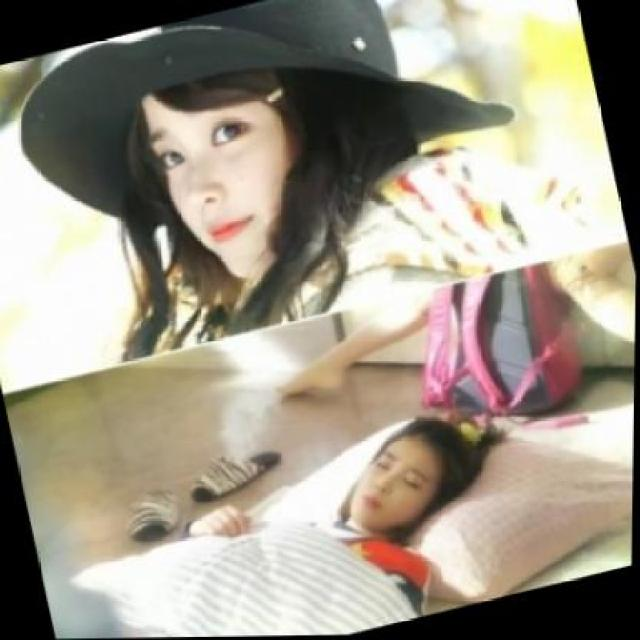hat: (20, 0, 516, 220)
